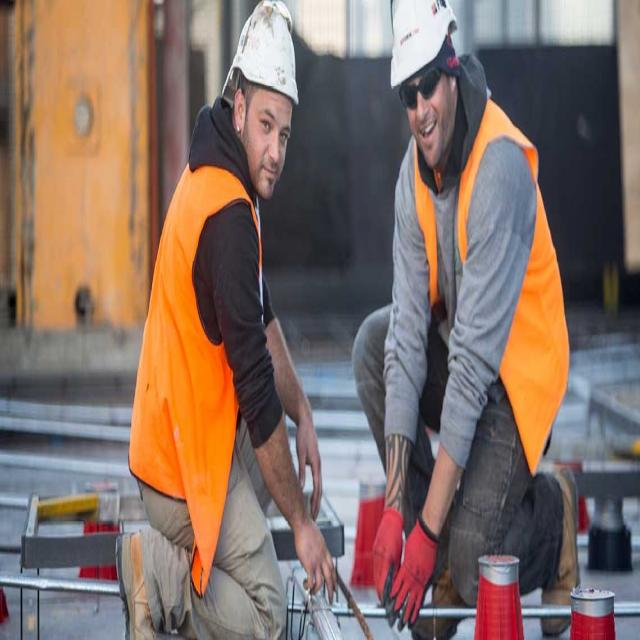Reflective-Jacket: (403, 110, 570, 482), (123, 141, 259, 591)
Safety-Helmet: (234, 0, 303, 111), (385, 0, 458, 90)
